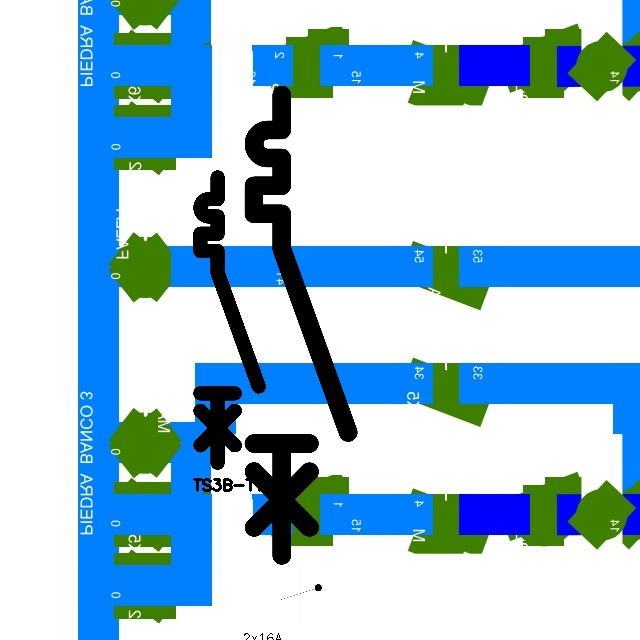interruptor_termomagnetico: (242, 83, 360, 567), (193, 170, 266, 470)
